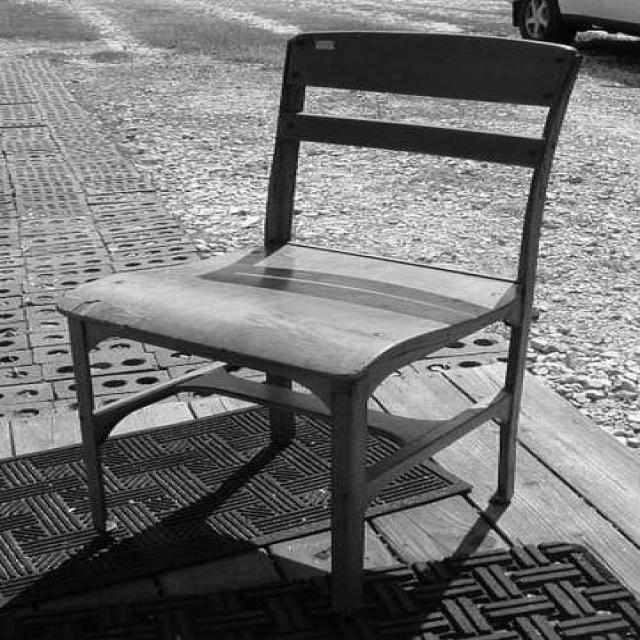chair: (58, 29, 602, 614)
